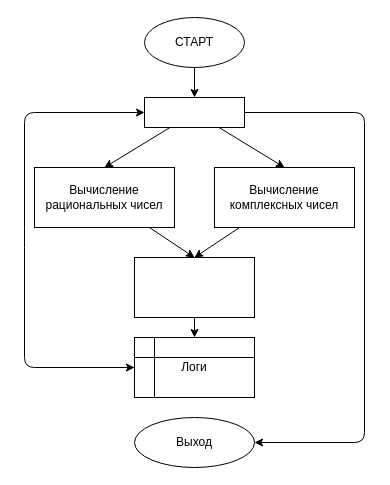
The diagram is 390 pixels wide and 485 high, and some of its shapes have lost their labels. Each missing label, with the centre of its shape:
Вывод результата: [194,287]
Меню (UI): [194,112]
